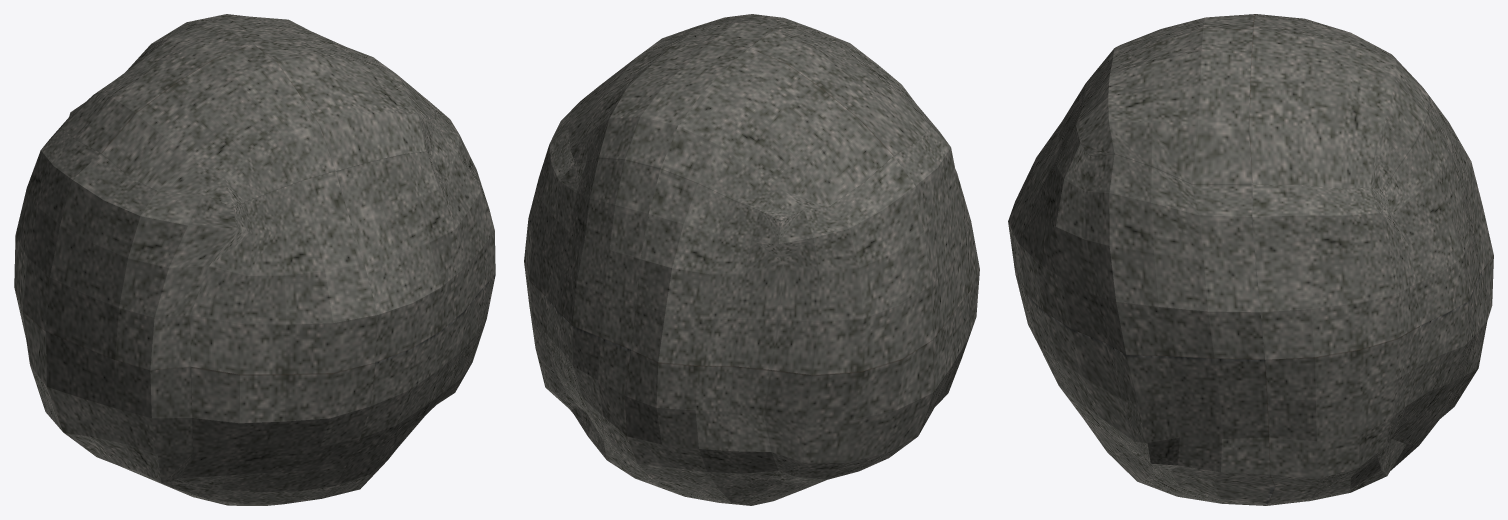
Rendered from SM_EC_Rock_57.fbx.
3 views of the same model, side by side, from view 1: azimuth 30°, elevation 25°; view 2: azimuth 150°, elevation 25°; view 3: azimuth 270°, elevation 25° (orthographic). The views are drawn at different scales.
Visible parts, largest first — view 1: SM_EC_Rock_57; view 2: SM_EC_Rock_57; view 3: SM_EC_Rock_57.
Part boxes in pixels (box(x1,y1,x2,y2)): SM_EC_Rock_57: box(14, 14, 495, 505); SM_EC_Rock_57: box(524, 14, 979, 505); SM_EC_Rock_57: box(1008, 14, 1493, 505).
Bounding box in the file's own units: 1.84 × 1.88 × 1.95.
